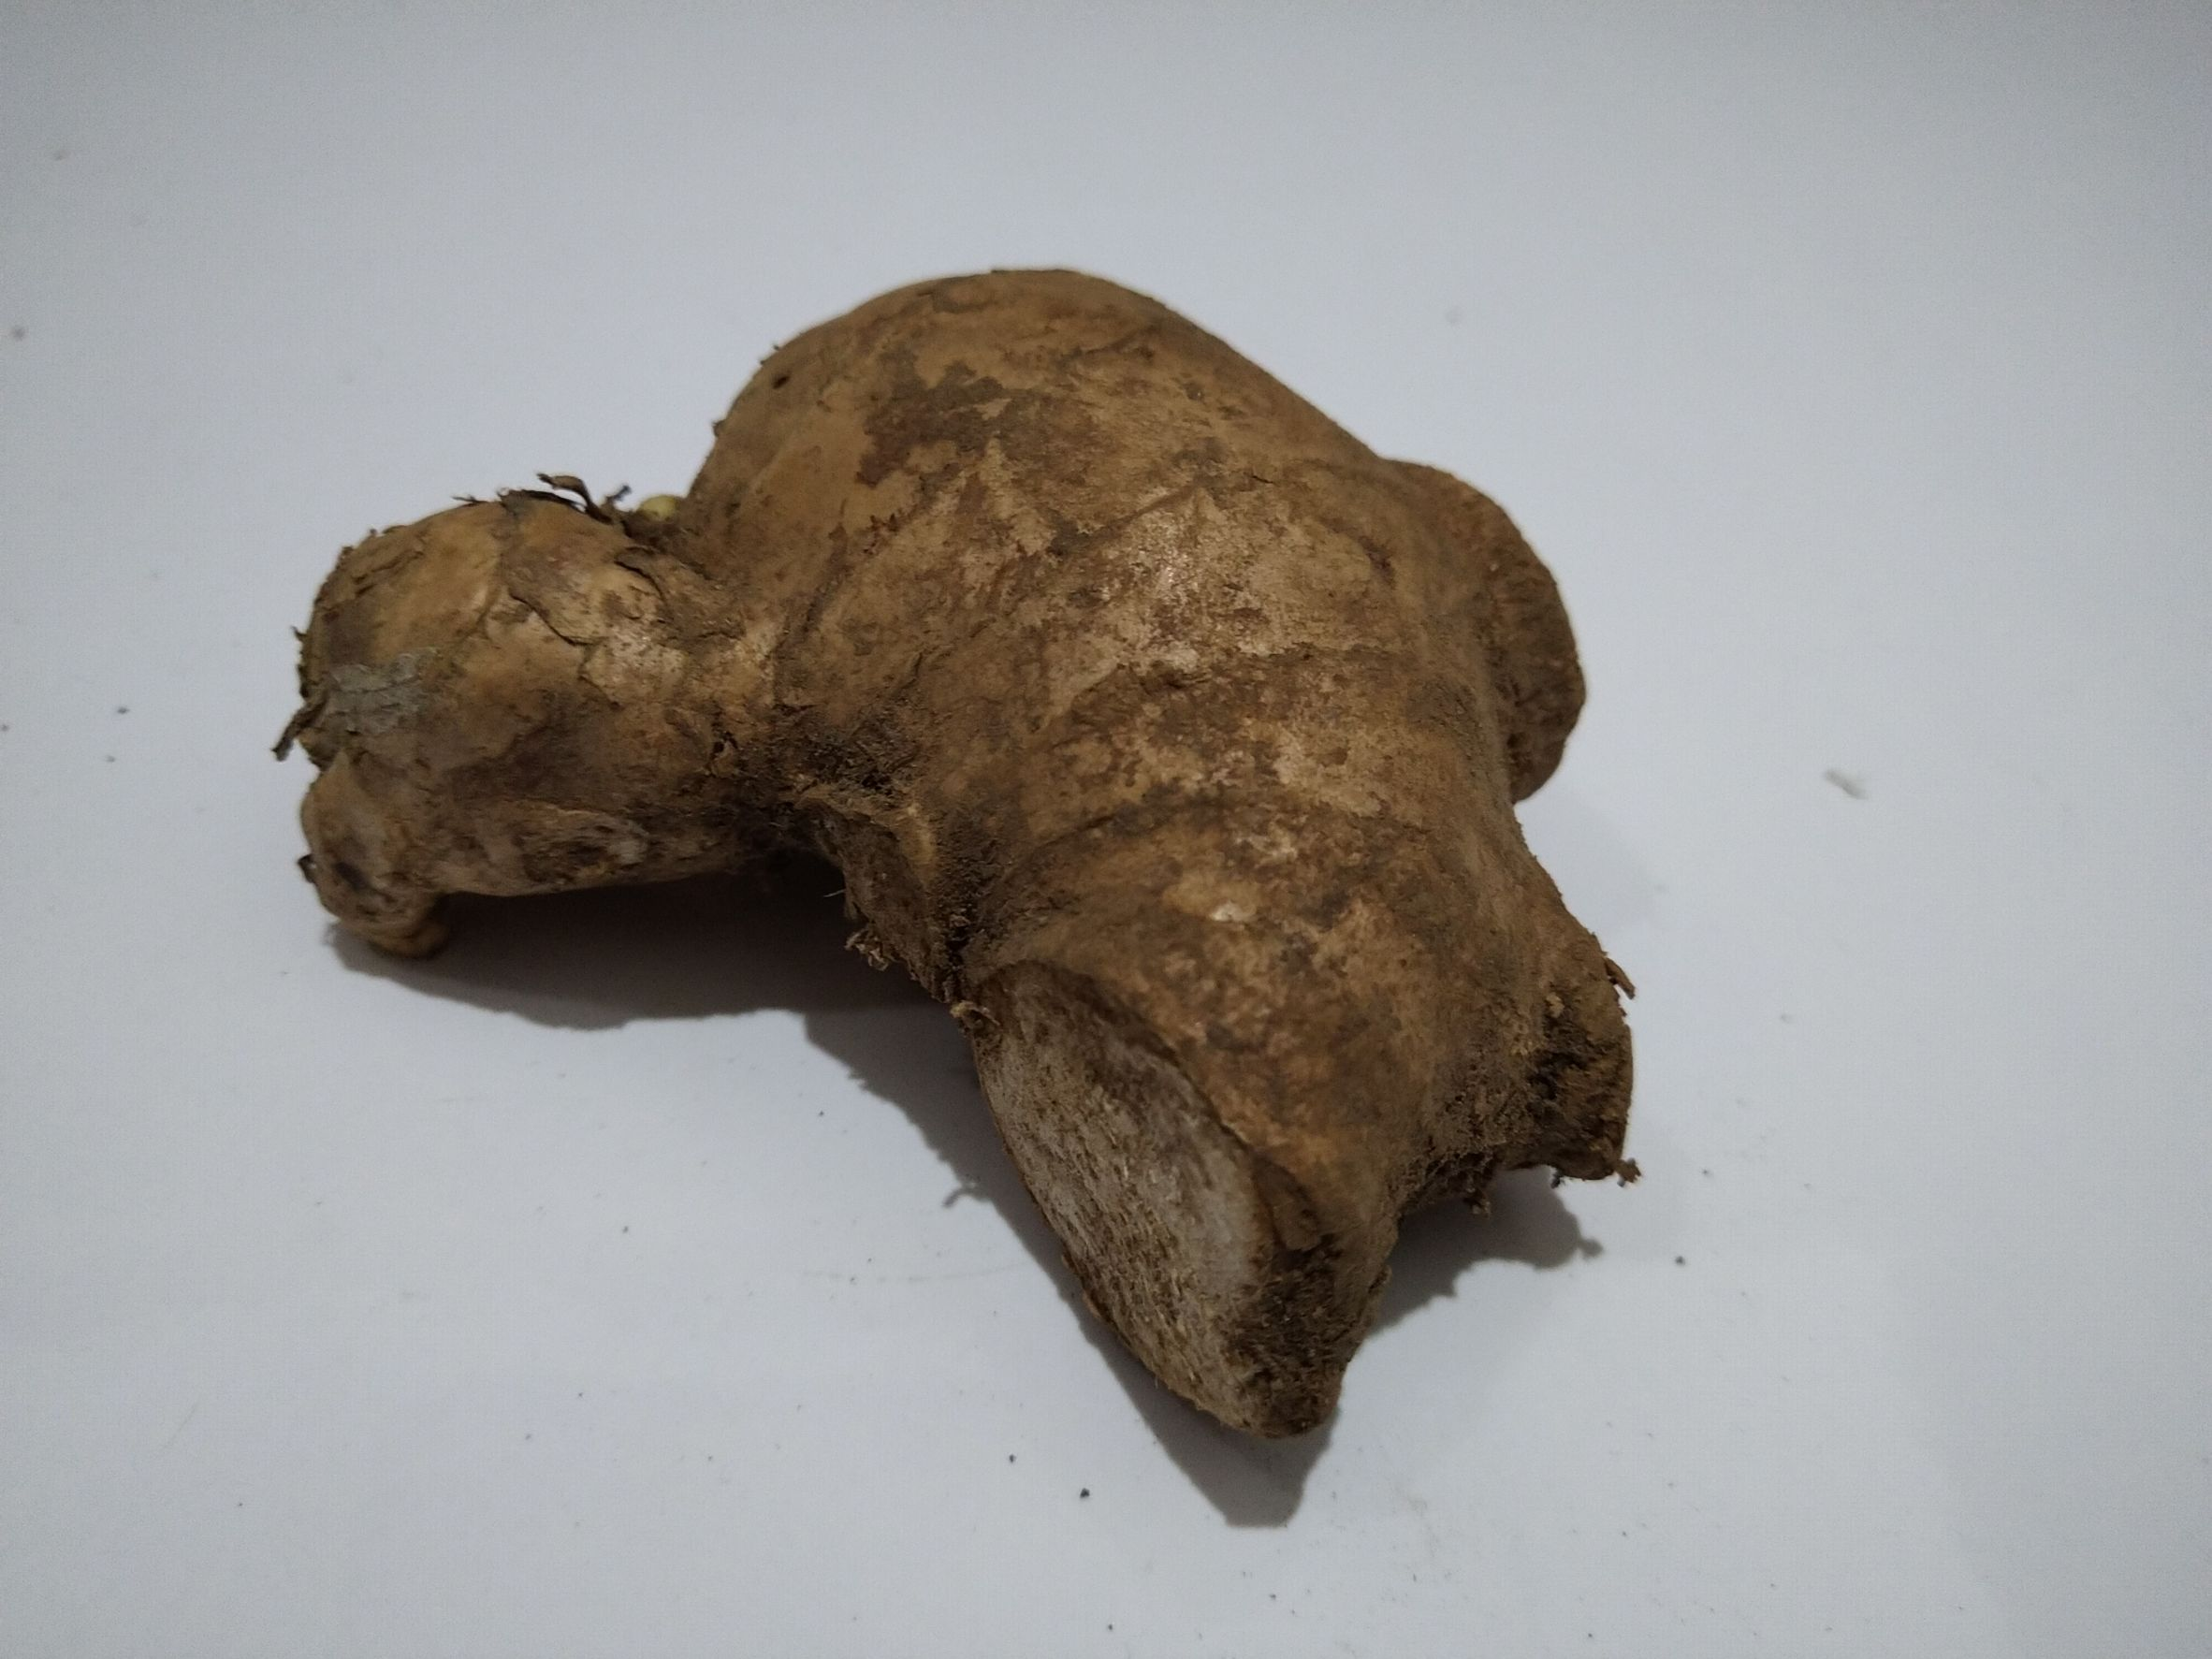Jahe: (305, 272, 1646, 1471)
